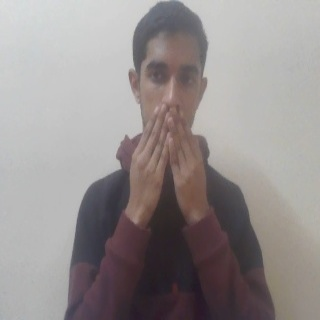Thank You: (120, 102, 217, 225)
